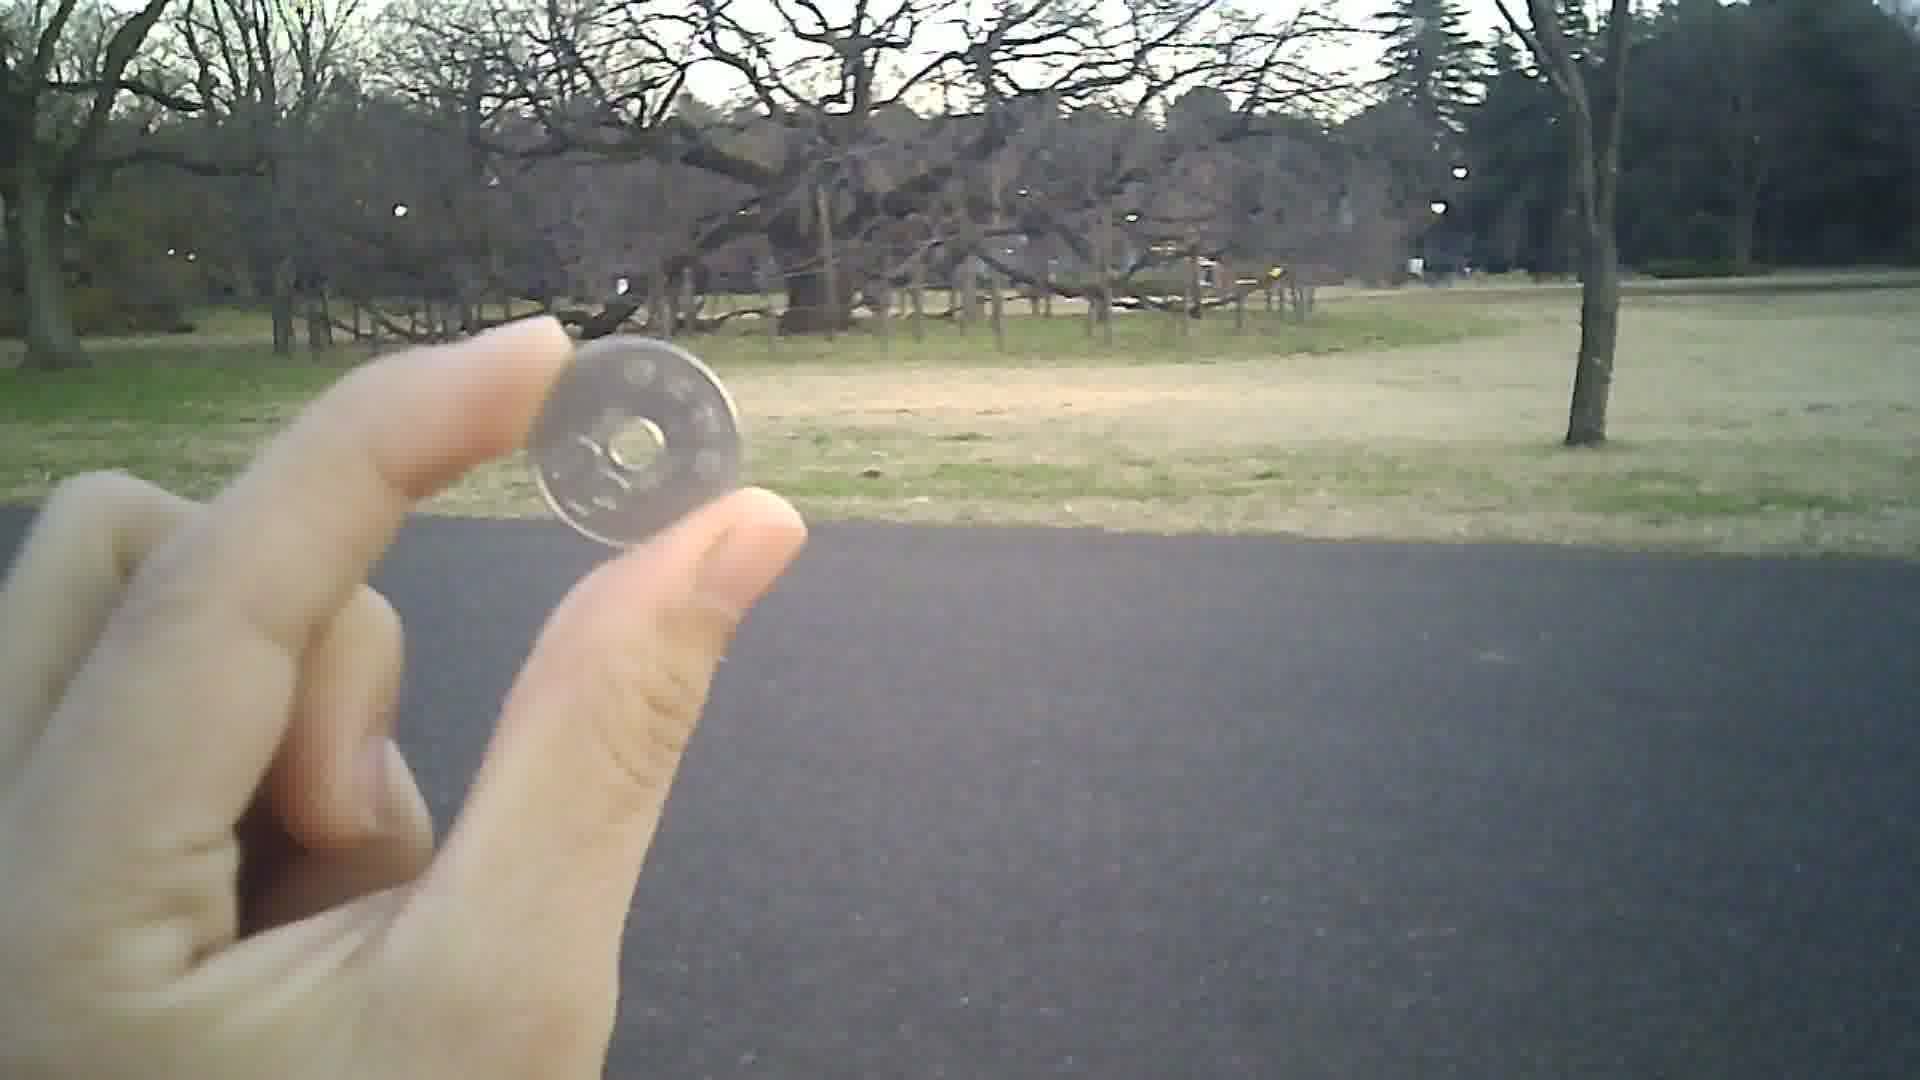50 Yen: (513, 336, 746, 551)
